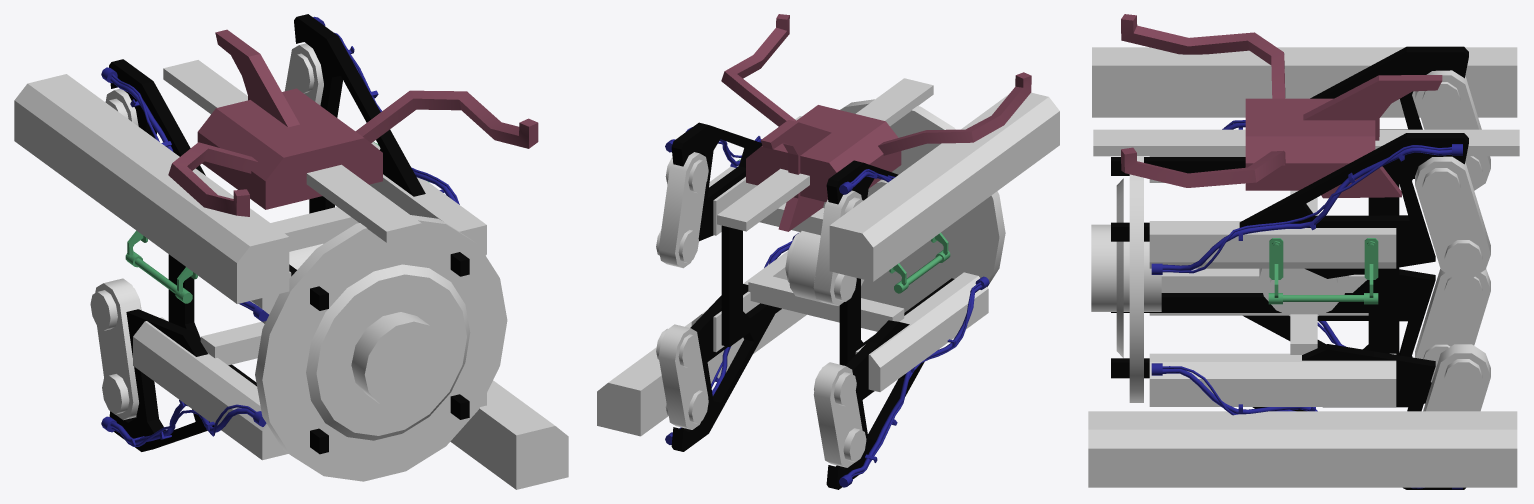
Rendered from mech 3 lod0.FBX.
3 renders of one model, left to right at view 1: azimuth 30°, elevation 25°; view 2: azimuth 150°, elevation 25°; view 3: azimuth 270°, elevation 25°, orthographic. The views are drawn at different scales.
Visible parts, largest first — view 1: Object038; view 2: Object038; view 3: Object038.
Part boxes in pixels (x1,y1,x2,y2): Object038: (14, 14, 568, 489); Object038: (597, 14, 1059, 489); Object038: (1088, 14, 1519, 489).
Size of the model in its own units: 2.53 by 2.81 by 3.
